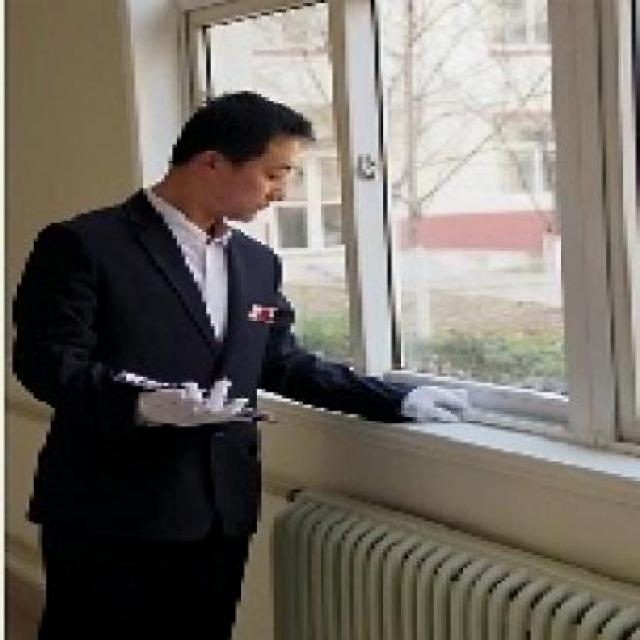face_nomask: (217, 138, 295, 238)
hand_glove: (143, 374, 249, 428), (388, 374, 477, 424)
head_nohelmet: (208, 78, 315, 157)
person: (12, 64, 363, 640)
